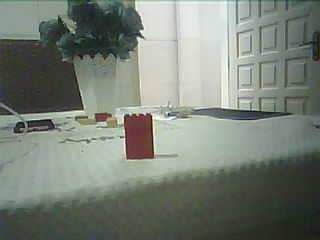lego: (123, 113, 156, 159), (75, 115, 96, 126), (96, 112, 113, 123), (105, 116, 117, 128)
